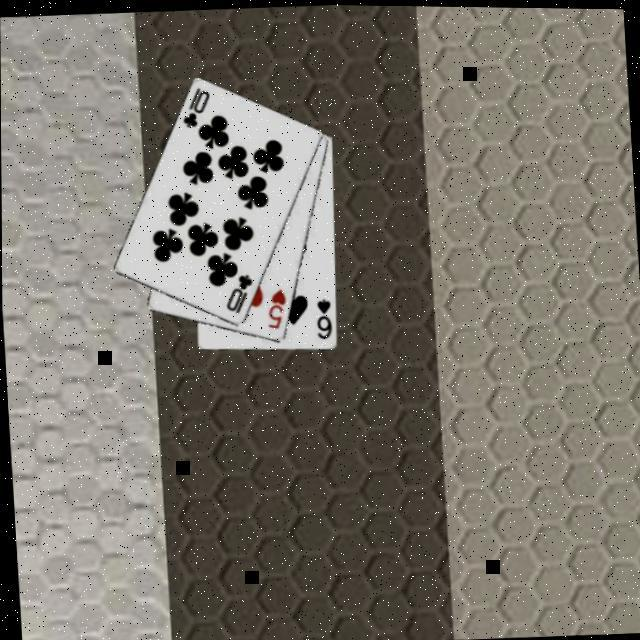10C: (178, 84, 214, 132), (222, 272, 258, 318)
5H: (263, 286, 291, 333)
6S: (314, 296, 336, 343)
